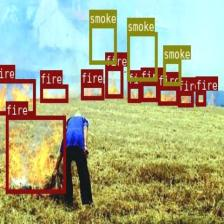fire: (5, 115, 66, 193), (0, 78, 35, 114), (105, 66, 122, 97), (40, 84, 67, 102), (80, 83, 104, 99), (158, 86, 178, 104), (140, 82, 158, 101), (127, 84, 141, 102), (178, 91, 193, 106), (196, 90, 206, 105)
smoke: (127, 32, 156, 80), (88, 24, 116, 64), (162, 59, 180, 85)
